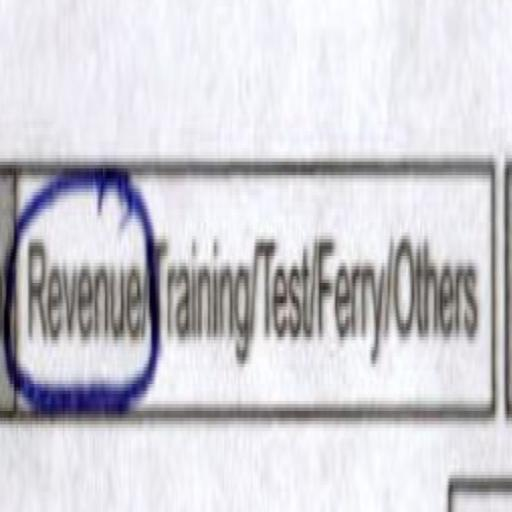check: (18, 104, 144, 476)
